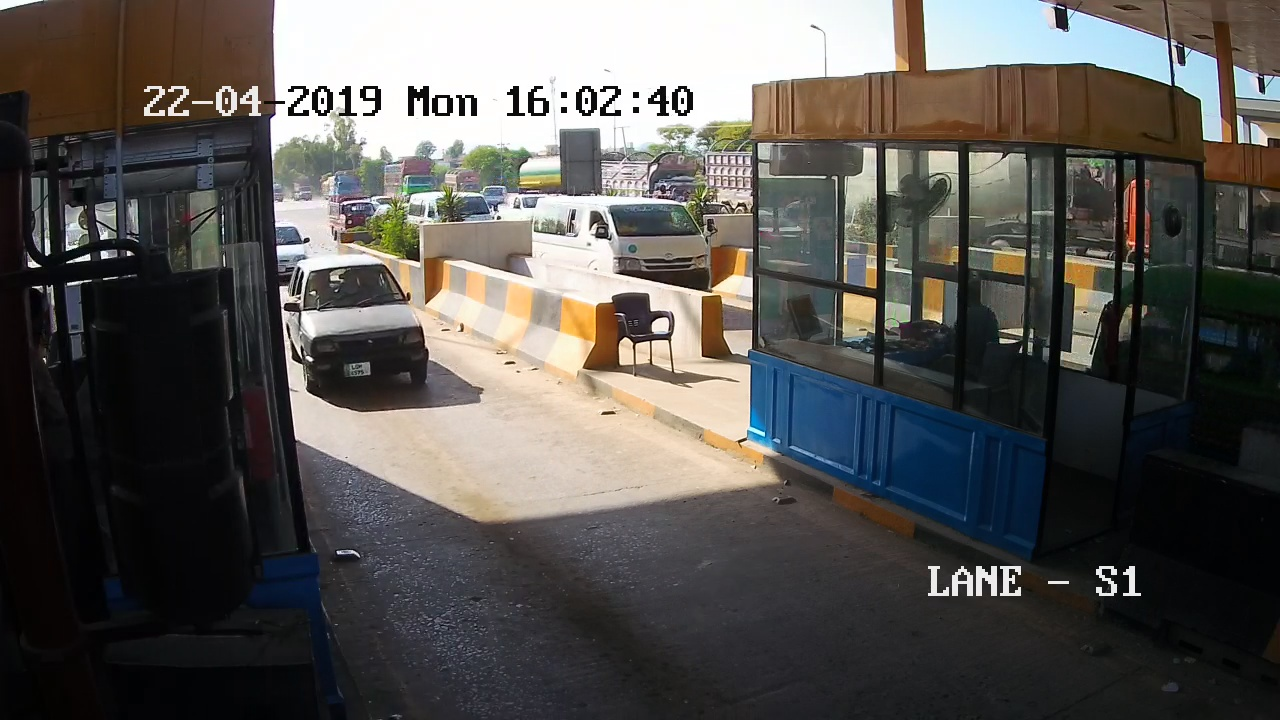car: (279, 259, 434, 402)
